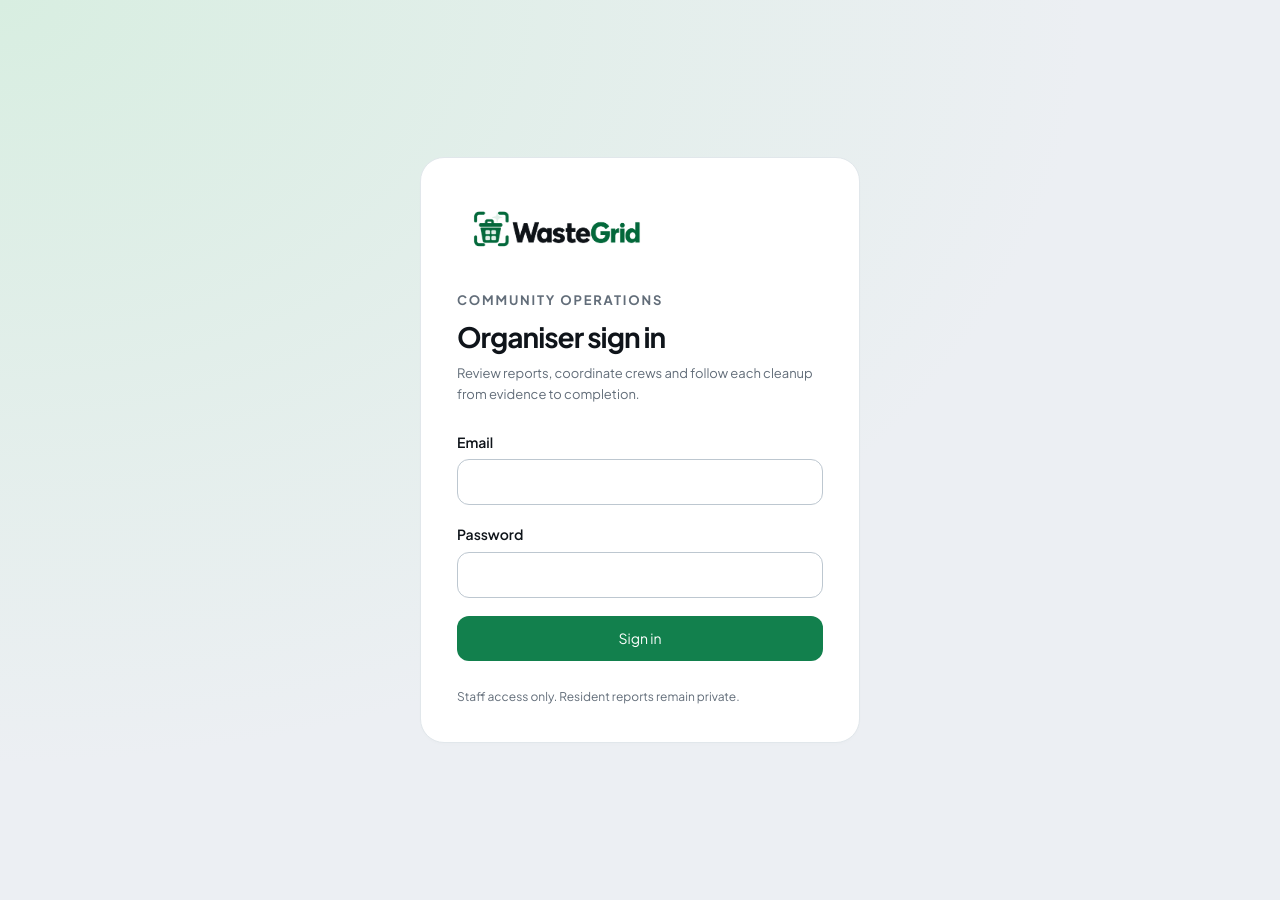
Test case: handles login and list failures, and returns to sign-in on expired authorization
Type "organizer@example.com" into the field labelled "Email" at (640, 482), box [457,459,823,506]
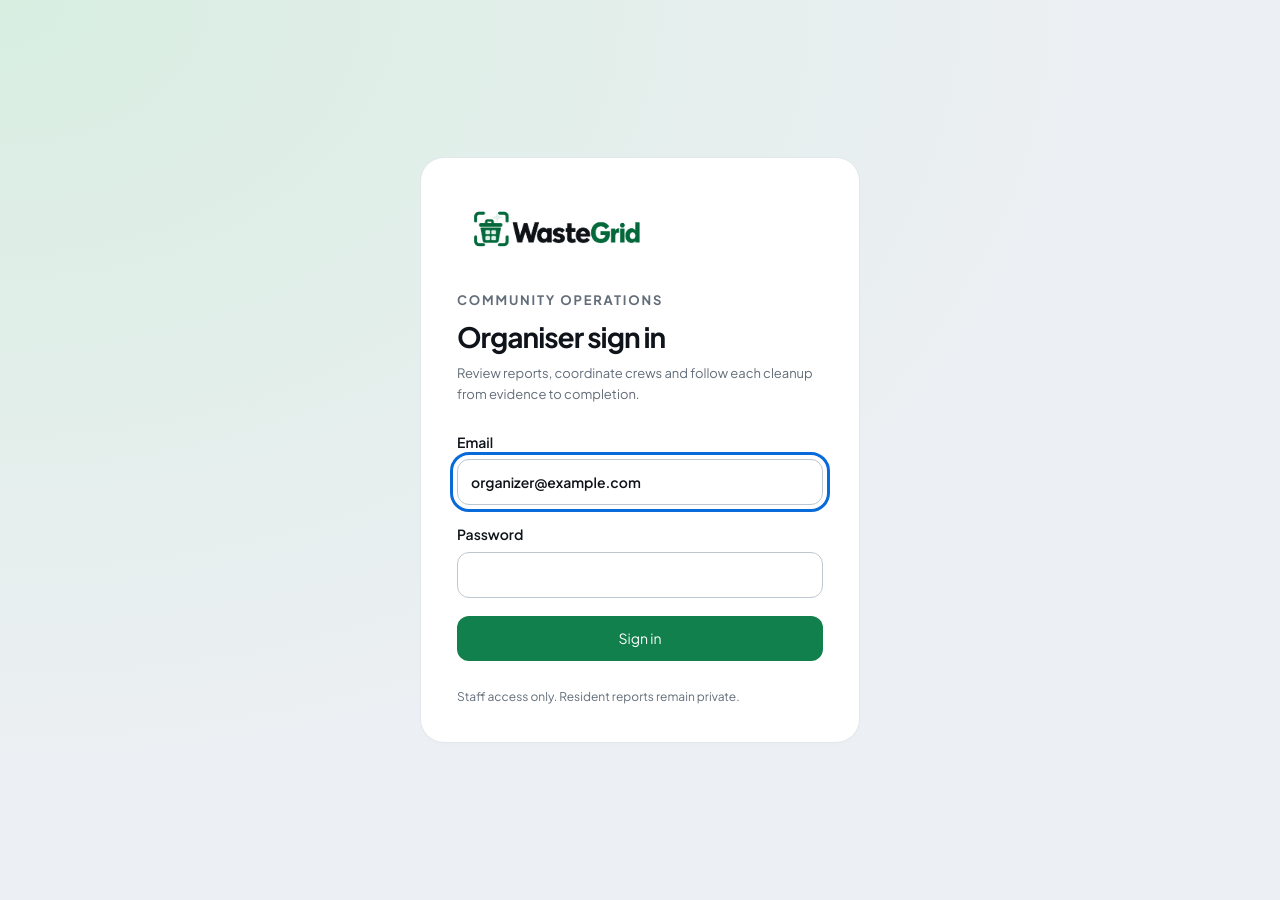
Type "test-password" into the password field labelled "Password" at (640, 575), box [457,552,823,598]
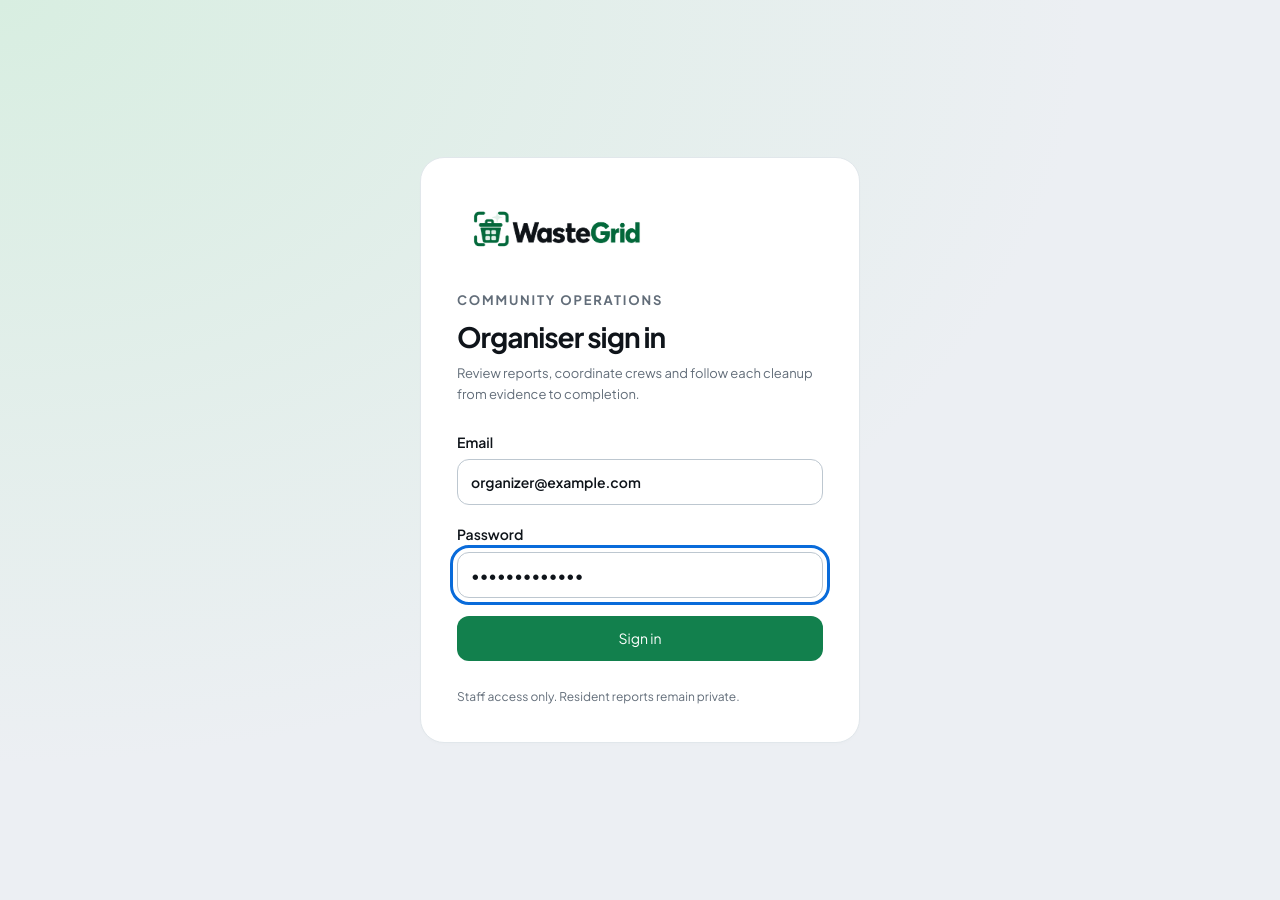
Click the button "Sign in" at (640, 638), box [457,616,823,661]
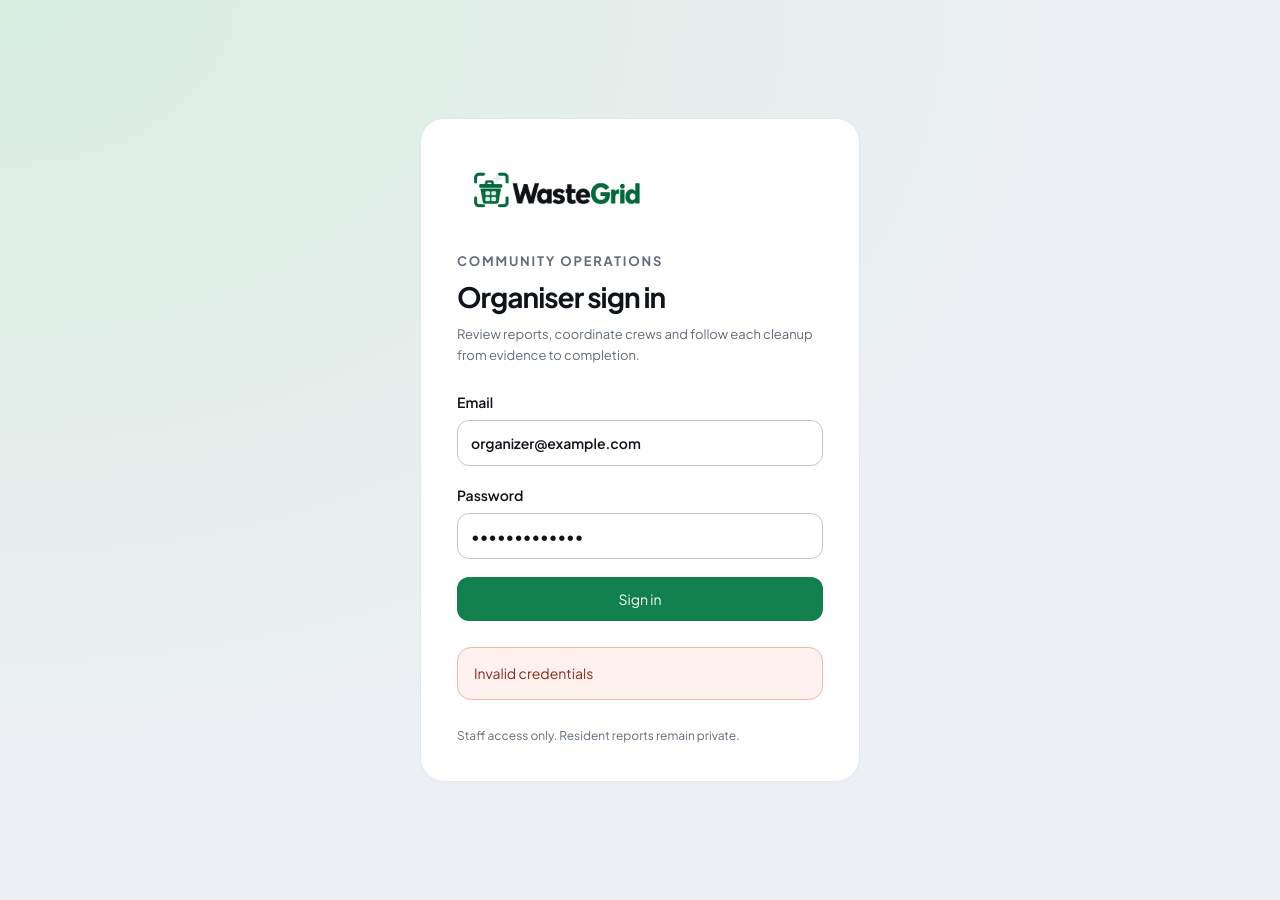
Result: the message reads "Invalid credentials" at [474,664,593,682]
Click the button "Sign in" at (640, 599), box [457,577,823,621]
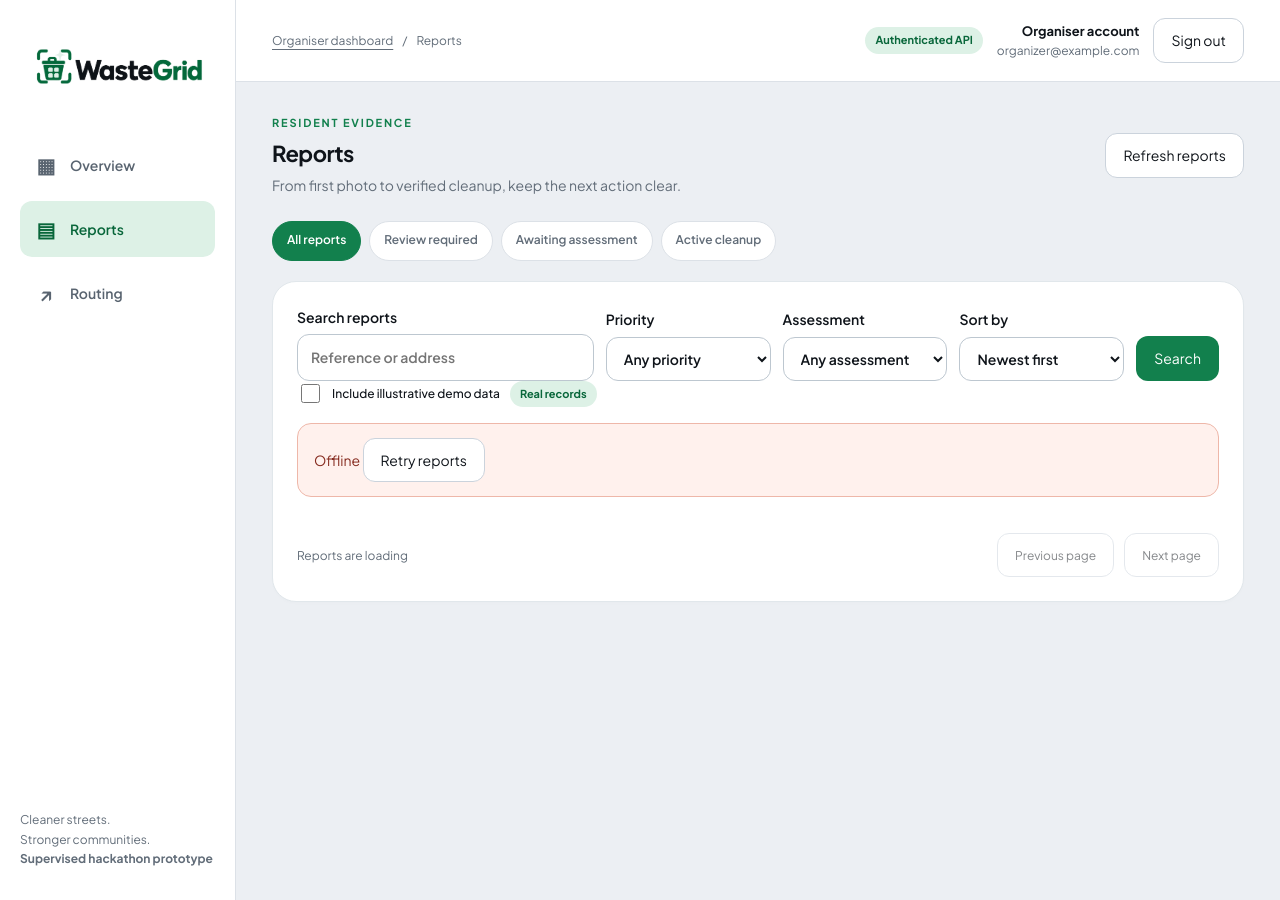
Result: the message shows "Offline" at [314,451,360,469]
Click the button "Refresh reports" at (1175, 155), box [1106,133,1244,178]
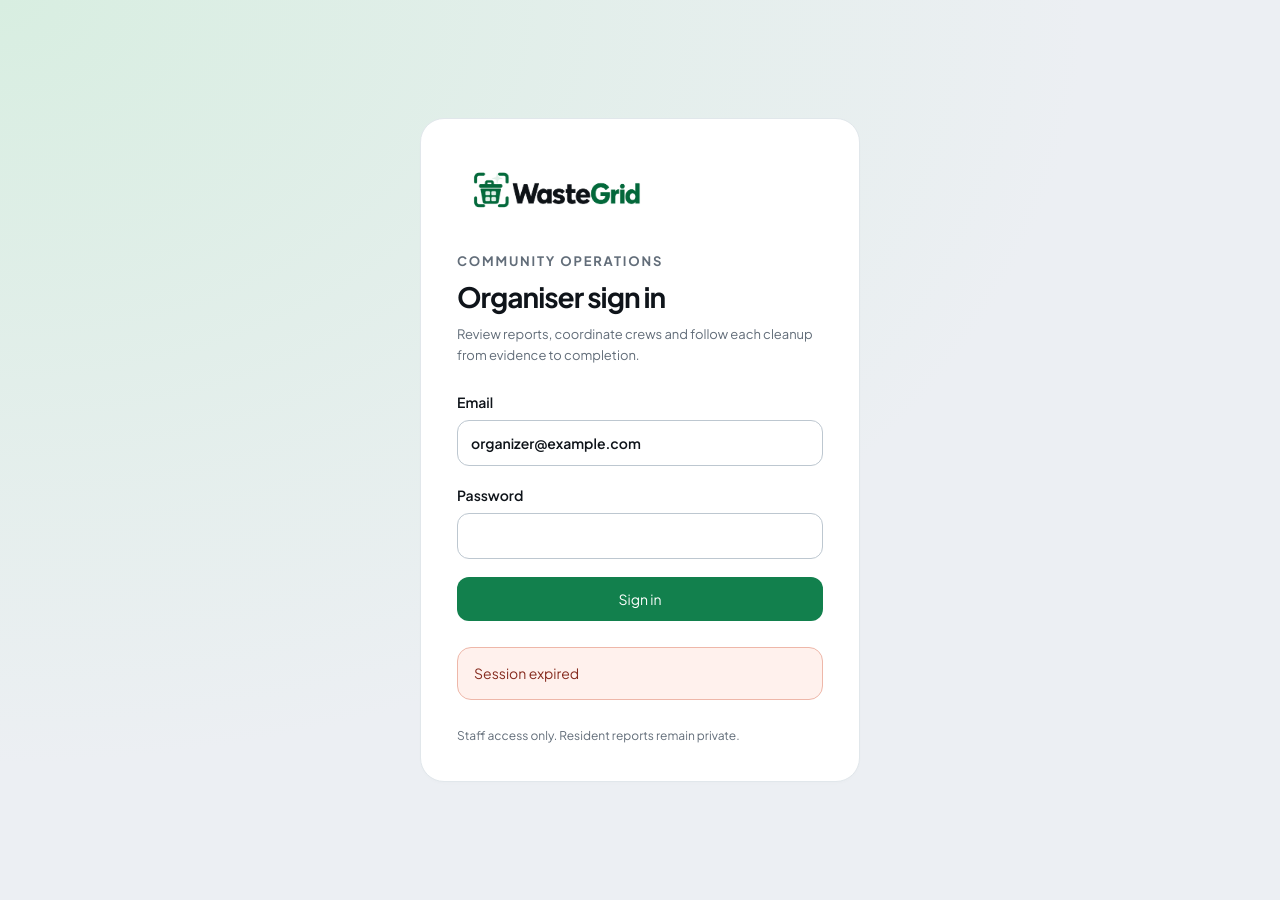
Result: the heading "Organiser sign in" is shown at [457,280,665,314]
Result: the message reads "Session expired" at [474,664,579,682]
